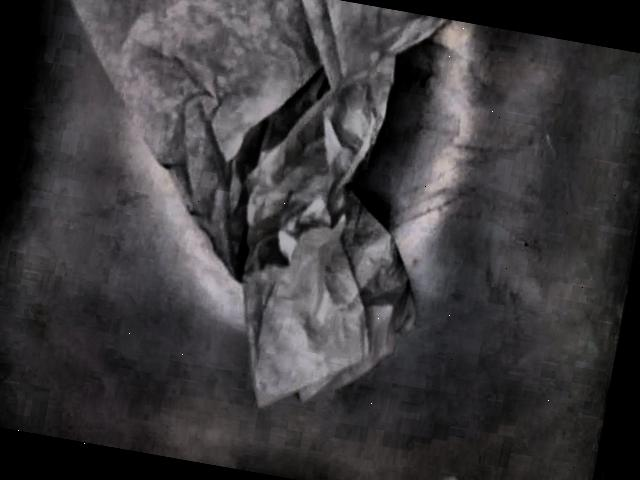Paper: (76, 0, 454, 409)
